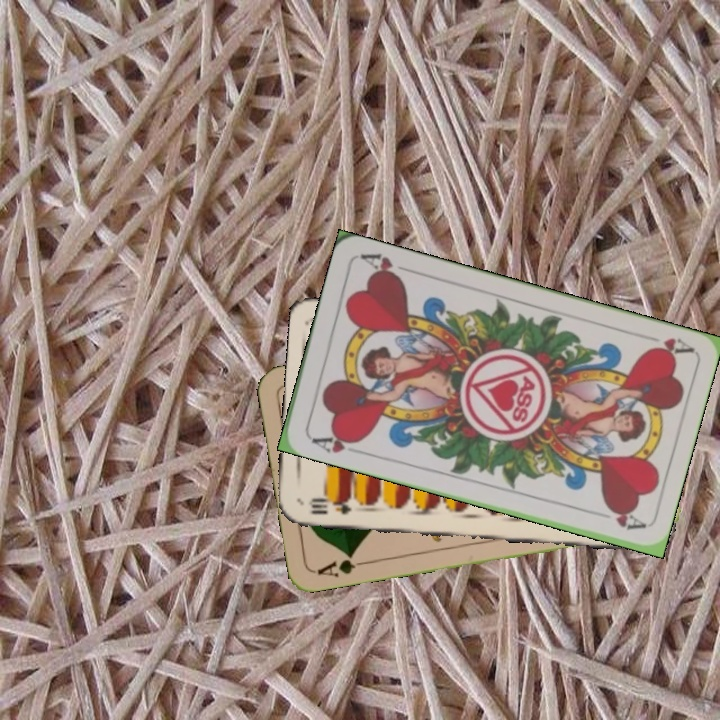E10: (304, 493, 354, 517)
GA: (313, 549, 371, 580)
HA: (637, 329, 694, 360), (306, 428, 364, 457)
